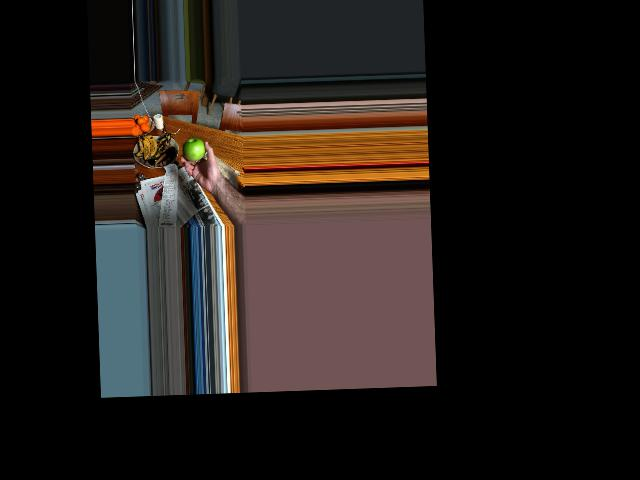apple: (181, 136, 205, 160)
